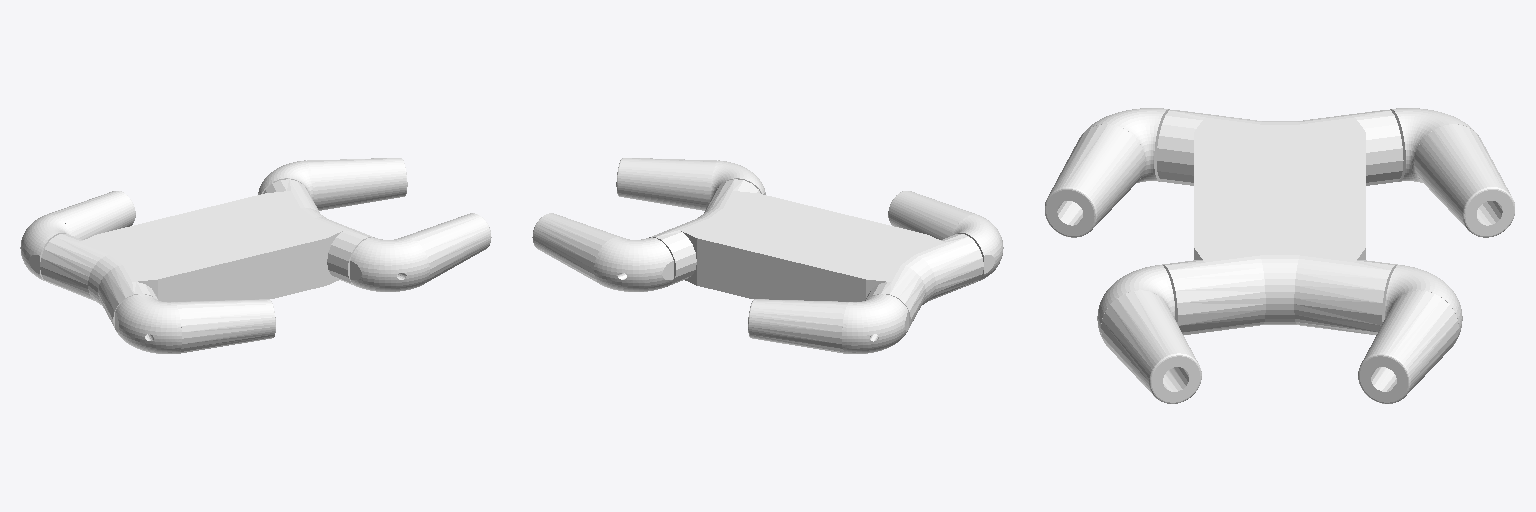
The robot description file, URDF, robot "17_degree":
<?xml version="1.0" encoding="utf-8"?>
<!-- This URDF was automatically created by SolidWorks to URDF Exporter! Originally created by [author] ([email redacted]) 
     Commit Version: 1.5.1-0-g916b5db  Build Version: 1.5.7152.31018
     For more information, please see http://wiki.ros.org/sw_urdf_exporter -->
<robot
  name="17_degree">
  <link
    name="base_link">
    <inertial>
      <origin
        xyz="6.9389E-18 3.8731E-08 7.2682E-10"
        rpy="0 0 0" />
      <mass
        value="2.942" />
      <inertia
        ixx="0.0099178"
        ixy="1.0487E-11"
        ixz="-1.5405E-10"
        iyy="0.0441657"
        iyz="-2.4743E-18"
        izz="0.0516803" />
    </inertial>
    <visual>
      <origin
        xyz="0 0 0"
        rpy="0 0 0" />
      <geometry>
        <mesh
          filename="package://17_degree/meshes/base_link.STL" />
      </geometry>
      <material
        name="">
        <color
          rgba="1 1 1 1" />
      </material>
    </visual>
    <collision>
      <origin
        xyz="0 0 0"
        rpy="0 0 0" />
      <geometry>
        <mesh
          filename="package://17_degree/meshes/base_link.STL" />
      </geometry>
    </collision>
  </link>
  <link
    name="left_front_link">
    <inertial>
      <origin
        xyz="-1.5151E-08 0.064875 -0.017822"
        rpy="0 0 0" />
      <mass
        value="0.092" />
      <inertia
        ixx="0.0002604"
        ixy="4.8691E-10"
        ixz="9.2459E-10"
        iyy="0.0000574"
        iyz="-0.0000385"
        izz="0.0002527" />
    </inertial>
    <visual>
      <origin
        xyz="0 0 0"
        rpy="0 0 0" />
      <geometry>
        <mesh
          filename="package://17_degree/meshes/left_front_link.STL" />
      </geometry>
      <material
        name="">
        <color
          rgba="1 1 1 1" />
      </material>
    </visual>
    <collision>
      <origin
        xyz="0 0 0"
        rpy="0 0 0" />
      <geometry>
        <mesh
          filename="package://17_degree/meshes/left_front_link.STL" />
      </geometry>
    </collision>
  </link>
  <joint
    name="left_front_leg"
    type="continuous">
    <origin
      xyz="0.16011 0.098499 0"
      rpy="1.5708 1.5708 0" />
    <parent
      link="base_link" />
    <child
      link="left_front_link" />
    <axis
      xyz="0 0.29237 -0.9563" />
    <limit
      effort="5"
      velocity="487" />
  </joint>
  <link
    name="right_front_link">
    <inertial>
      <origin
        xyz="1.5151E-08 0.064875 0.017822"
        rpy="0 0 0" />
      <mass
        value="0.092" />
      <inertia
        ixx="0.0002604"
        ixy="-4.8691E-10"
        ixz="9.2459E-10"
        iyy="0.0000574"
        iyz="0.0000385"
        izz="0.0002527" />
    </inertial>
    <visual>
      <origin
        xyz="0 0 0"
        rpy="0 0 0" />
      <geometry>
        <mesh
          filename="package://17_degree/meshes/right_front_link.STL" />
      </geometry>
      <material
        name="">
        <color
          rgba="1 1 1 1" />
      </material>
    </visual>
    <collision>
      <origin
        xyz="0 0 0"
        rpy="0 0 0" />
      <geometry>
        <mesh
          filename="package://17_degree/meshes/right_front_link.STL" />
      </geometry>
    </collision>
  </link>
  <joint
    name="right_front_leg"
    type="continuous">
    <origin
      xyz="0.16011 -0.098499 0"
      rpy="1.5708 1.5708 0" />
    <parent
      link="base_link" />
    <child
      link="right_front_link" />
    <axis
      xyz="0 0.29237 0.9563" />
    <limit
      effort="5"
      velocity="487" />
  </joint>
  <link
    name="right_back_link">
    <inertial>
      <origin
        xyz="8.5735E-08 0.056834 0.03601"
        rpy="0 0 0" />
      <mass
        value="0.092" />
      <inertia
        ixx="0.0002604"
        ixy="-5.3891E-10"
        ixz="2.4493E-10"
        iyy="0.0000526"
        iyz="-2.27E-05"
        izz="0.0002575" />
    </inertial>
    <visual>
      <origin
        xyz="0 0 0"
        rpy="0 0 0" />
      <geometry>
        <mesh
          filename="package://17_degree/meshes/right_back_link.STL" />
      </geometry>
      <material
        name="">
        <color
          rgba="1 1 1 1" />
      </material>
    </visual>
    <collision>
      <origin
        xyz="0 0 0"
        rpy="0 0 0" />
      <geometry>
        <mesh
          filename="package://17_degree/meshes/right_back_link.STL" />
      </geometry>
    </collision>
  </link>
  <joint
    name="right_back_leg"
    type="continuous">
    <origin
      xyz="-0.16011 -0.098499 0"
      rpy="1.8675 1.5708 0" />
    <parent
      link="base_link" />
    <child
      link="right_back_link" />
    <axis
      xyz="0 0 1" />
    <limit
      effort="5"
      velocity="487" />
  </joint>
  <link
    name="left_back_link">
    <inertial>
      <origin
        xyz="-8.5735E-08 0.043822 -0.051053"
        rpy="0 0 0" />
      <mass
        value="0.092" />
      <inertia
        ixx="0.0002604"
        ixy="5.8697E-10"
        ixz="7.6663E-11"
        iyy="0.0000828"
        iyz="0.0000761"
        izz="0.0002273" />
    </inertial>
    <visual>
      <origin
        xyz="0 0 0"
        rpy="0 0 0" />
      <geometry>
        <mesh
          filename="package://17_degree/meshes/left_back_link.STL" />
      </geometry>
      <material
        name="">
        <color
          rgba="1 1 1 1" />
      </material>
    </visual>
    <collision>
      <origin
        xyz="0 0 0"
        rpy="0 0 0" />
      <geometry>
        <mesh
          filename="package://17_degree/meshes/left_back_link.STL" />
      </geometry>
    </collision>
  </link>
  <joint
    name="left_back_leg"
    type="continuous">
    <origin
      xyz="-0.16011 0.098499 0"
      rpy="1.5708 1.5708 0" />
    <parent
      link="base_link" />
    <child
      link="left_back_link" />
    <axis
      xyz="0 -0.29237 -0.9563" />
    <limit
      effort="5"
      velocity="487" />
  </joint>
</robot>

--- What the picture shows (computed from the rendered views, not written in the file) ---
3 views of the same robot in one strip: view 1: azimuth 30°, elevation 25°; view 2: azimuth 150°, elevation 25°; view 3: azimuth 270°, elevation 25° (orthographic).
Robot: 17_degree — 5 links, 4 joints (4 continuous); root link base_link; default pose: all joints at 0.
Visible links, largest first — view 1: base_link, right_back_link, right_front_link, left_front_link, left_back_link; view 2: base_link, left_back_link, left_front_link, right_front_link, right_back_link; view 3: base_link, right_back_link, left_back_link, left_front_link, right_front_link.
Link boxes in pixels (x1,y1,x2,y2): base_link: (40, 179, 374, 327); right_back_link: (115, 294, 275, 353); right_front_link: (350, 213, 491, 291); left_front_link: (258, 158, 407, 210); left_back_link: (20, 191, 135, 281); base_link: (649, 179, 983, 327); left_back_link: (748, 294, 908, 353); left_front_link: (532, 213, 673, 291); right_front_link: (616, 158, 765, 210); right_back_link: (888, 191, 1003, 281); base_link: (1156, 110, 1403, 334); right_back_link: (1045, 108, 1169, 237); left_back_link: (1390, 108, 1514, 237); left_front_link: (1358, 265, 1462, 403); right_front_link: (1097, 265, 1201, 403).
Size in the robot's own frame: 0.5239 by 0.4113 by 0.064 metres.
Meshes: 5 distinct files referenced, 5 mesh visuals loaded (5 binary STL).